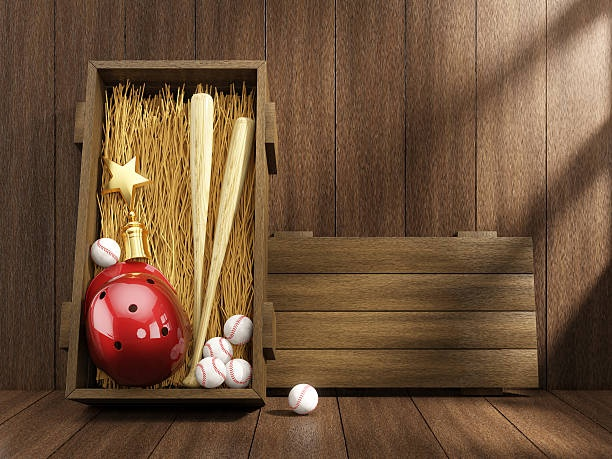bita: (183, 118, 256, 390), (183, 93, 216, 381)
